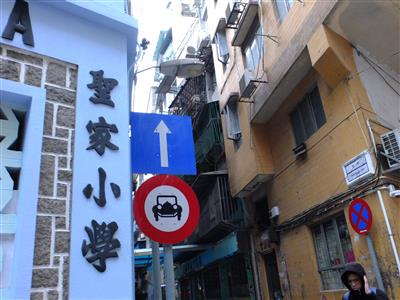noMotorVehicles: (131, 174, 201, 244)
noStopping: (343, 195, 375, 235)
oneway: (126, 104, 199, 178)
